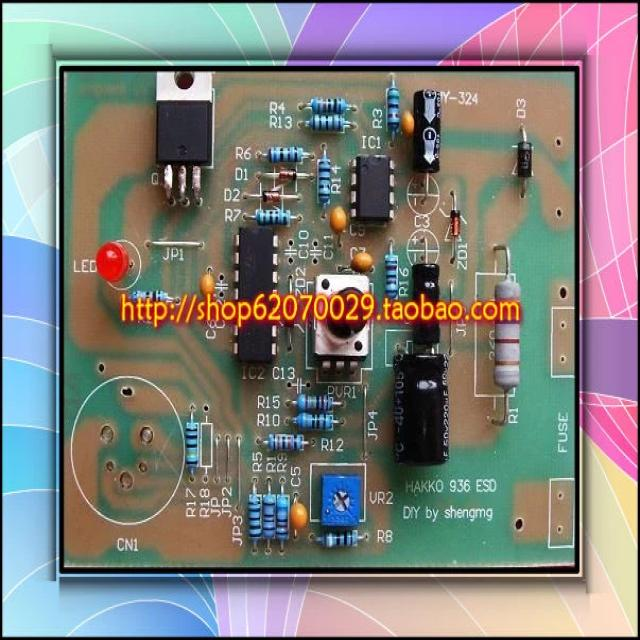pcb: (54, 58, 584, 578), (231, 224, 278, 364), (311, 272, 373, 375), (154, 70, 214, 168), (309, 460, 366, 548), (348, 152, 395, 226), (319, 471, 361, 527)
